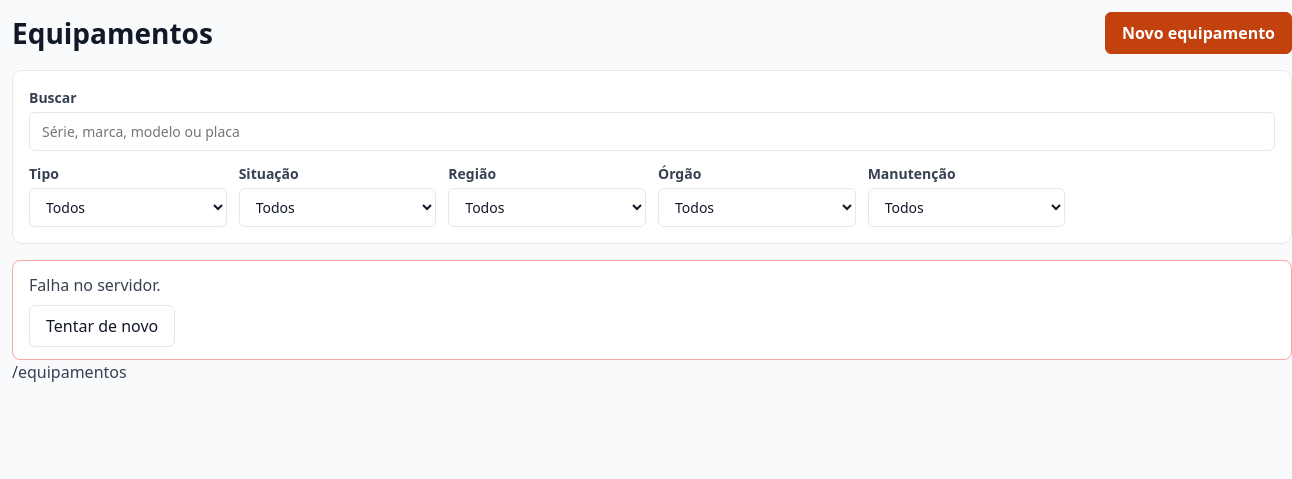
Test case: EquipmentListPage › deveMostrarErroComTentarDeNovoQuandoApiFalha
Expected: the message shows "Falha no servidor.", [29,274,161,296]
Click the button "Tentar de novo".
click(102, 326)  # box [29,305,175,347]
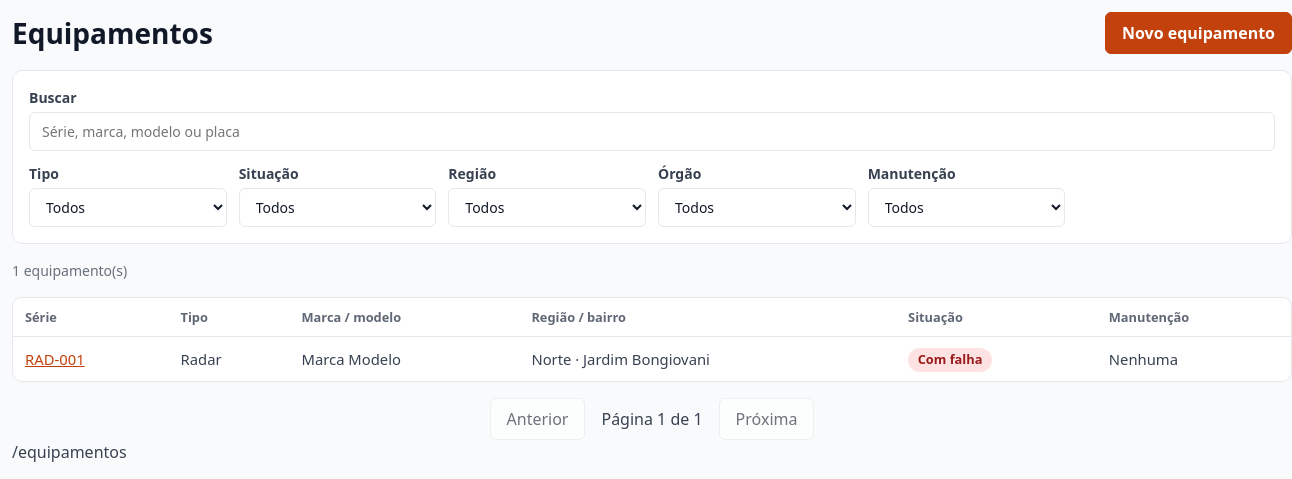
Result: the link "RAD-001" is shown at [25,349,85,369]
Result: the message "Falha no servidor. Tentar de novo" is gone
